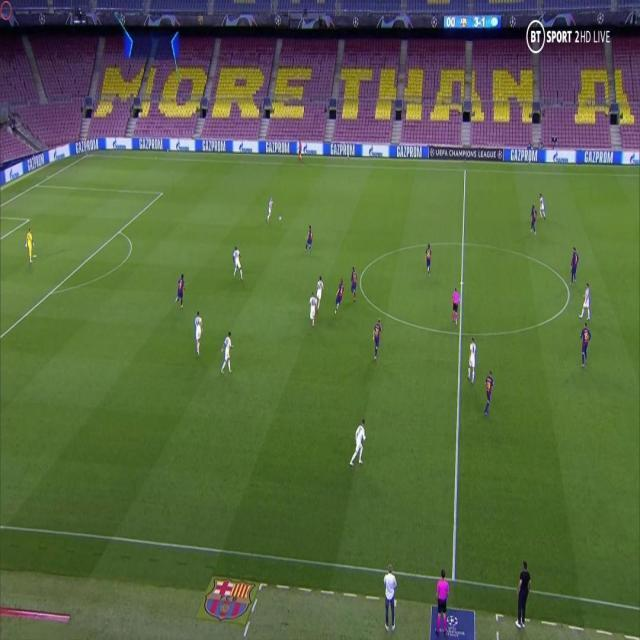ball: (278, 214, 283, 223)
goalkeeper: (24, 225, 35, 264)
player: (350, 417, 367, 466), (219, 330, 235, 375), (578, 323, 592, 369), (192, 309, 204, 357), (578, 281, 592, 322), (466, 334, 477, 385), (174, 271, 188, 310), (370, 319, 383, 361), (232, 242, 245, 283), (483, 368, 494, 416), (569, 246, 580, 287), (314, 275, 325, 314), (335, 278, 345, 316), (348, 266, 358, 302), (308, 293, 318, 328), (424, 242, 433, 277), (267, 195, 277, 226), (529, 203, 538, 236), (304, 224, 313, 256), (537, 193, 547, 221)
referee: (433, 570, 452, 631), (451, 287, 461, 327), (297, 138, 304, 165)
